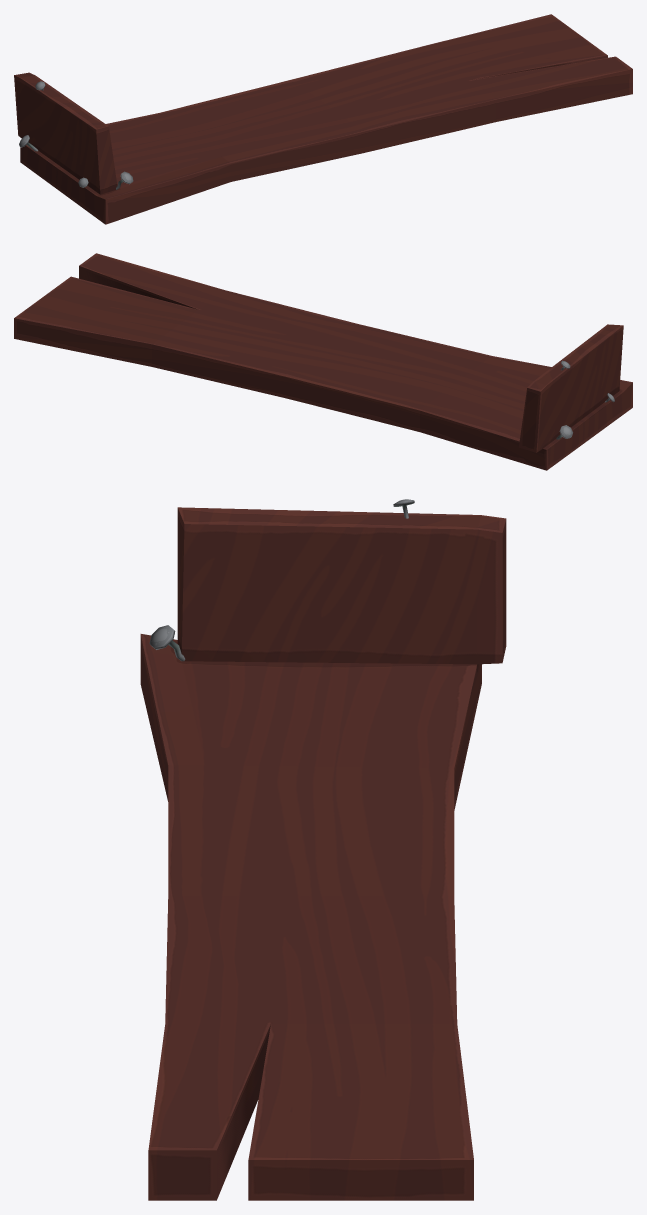
The model's file is sm_Plank.fbx.
3 renders of one model, top to bottom at view 1: azimuth 30°, elevation 25°; view 2: azimuth 150°, elevation 25°; view 3: azimuth 270°, elevation 25°, orthographic. The views are drawn at different scales.
Visible parts, largest first — view 1: sm_Plank; view 2: sm_Plank; view 3: sm_Plank.
Part boxes in pixels (left/top/right/bottom): sm_Plank: left=14, top=14, right=632, bottom=224; sm_Plank: left=14, top=253, right=632, bottom=470; sm_Plank: left=140, top=499, right=506, bottom=1200.
Bounding box in the file's own units: 1126 × 186 × 329.
